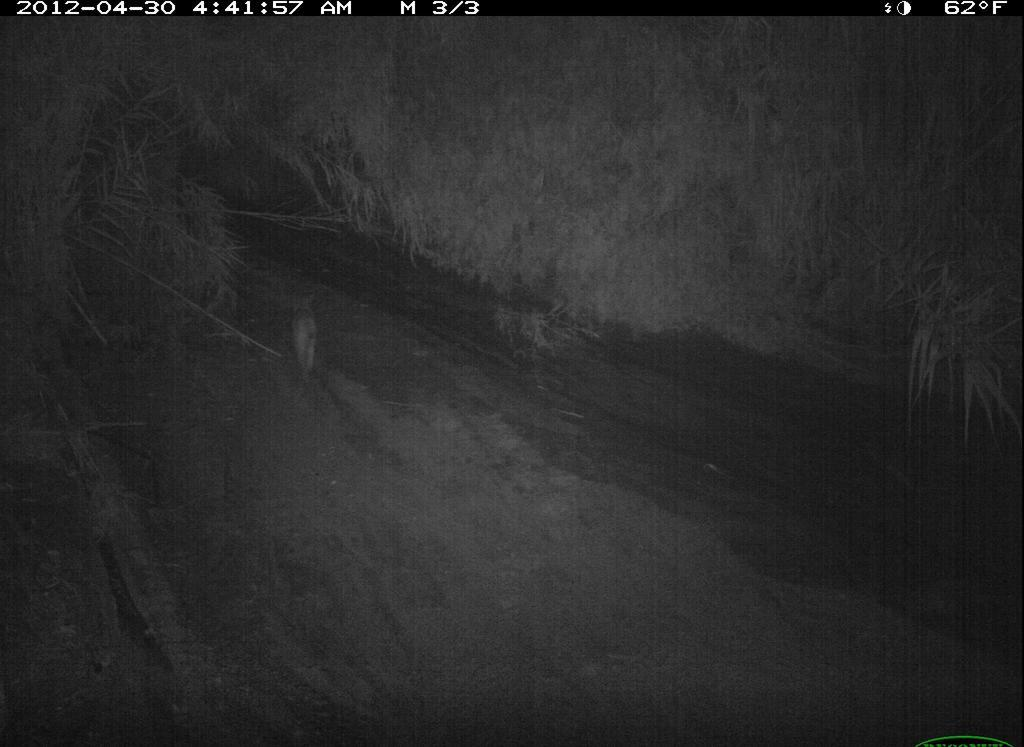bobcat: (559, 560, 651, 747)
